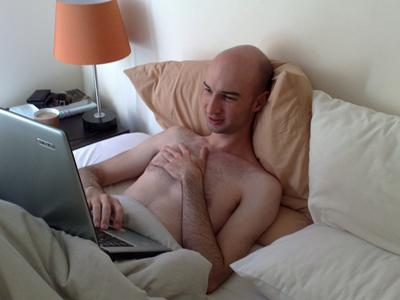person: (74, 45, 286, 294)
